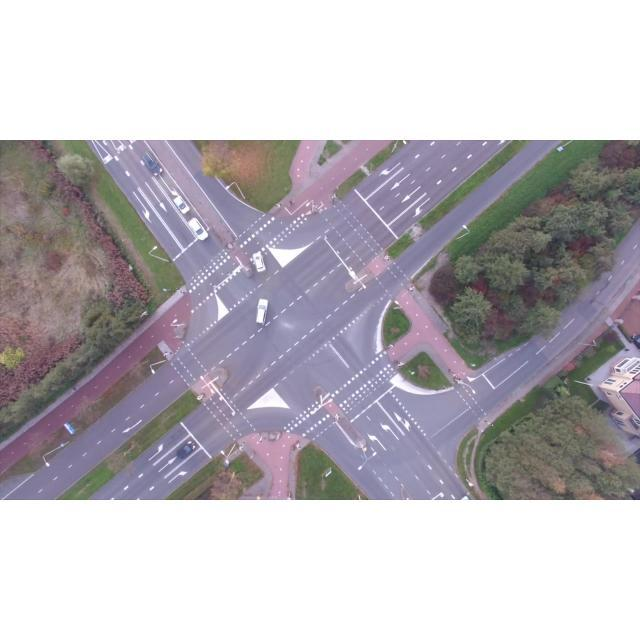vehicle: (141, 152, 163, 176), (187, 217, 209, 241), (254, 298, 268, 326), (177, 441, 196, 459), (252, 251, 266, 273), (173, 196, 190, 214)
